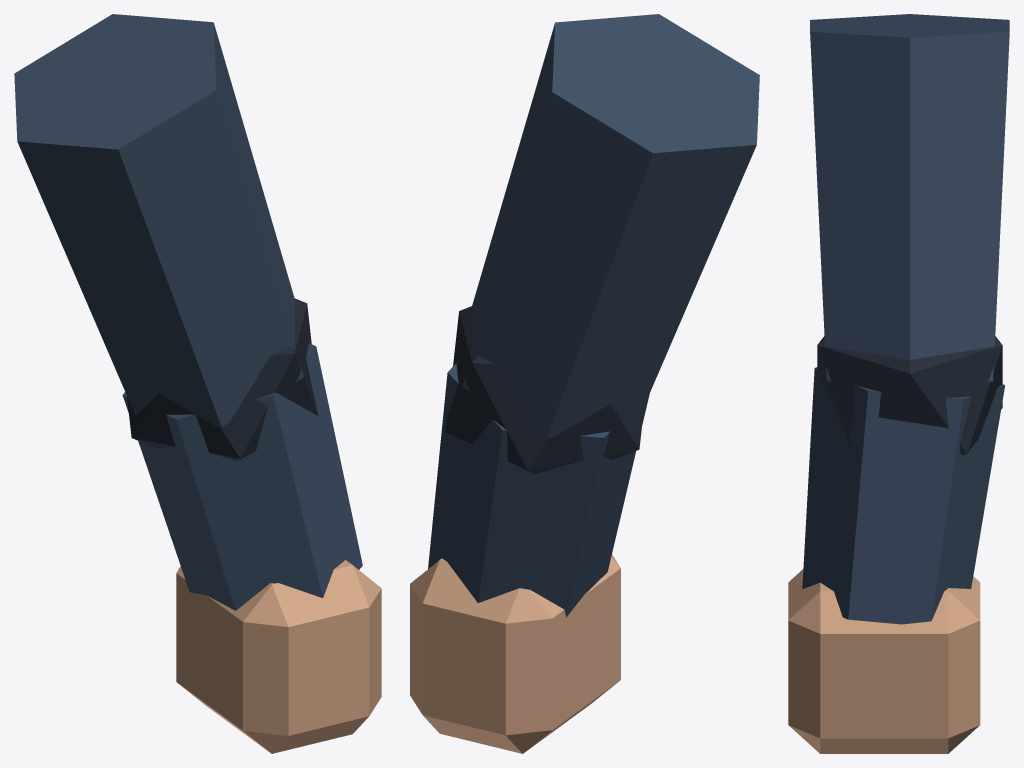
Rendered from SM_NPC_ArmL_001_Sleeve.glb.
The picture shows the model from 3 angles, left to right: view 1: azimuth 30°, elevation 25°; view 2: azimuth 150°, elevation 25°; view 3: azimuth 270°, elevation 25°; orthographic projection. The views are drawn at different scales.
Visible parts, largest first — view 1: SM_NPC_ArmL_001_Sleeve; view 2: SM_NPC_ArmL_001_Sleeve; view 3: SM_NPC_ArmL_001_Sleeve.
Part boxes in pixels (x1,y1,x2,y2): SM_NPC_ArmL_001_Sleeve: (14,14,381,753); SM_NPC_ArmL_001_Sleeve: (410,14,759,753); SM_NPC_ArmL_001_Sleeve: (788,14,1009,753).
Bounding box in the file's own units: 0.275 × 0.5794 × 0.1729.
